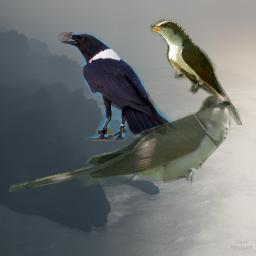Crow: (58, 32, 177, 141)
Cuckoo: (8, 92, 231, 194), (150, 18, 243, 125)
